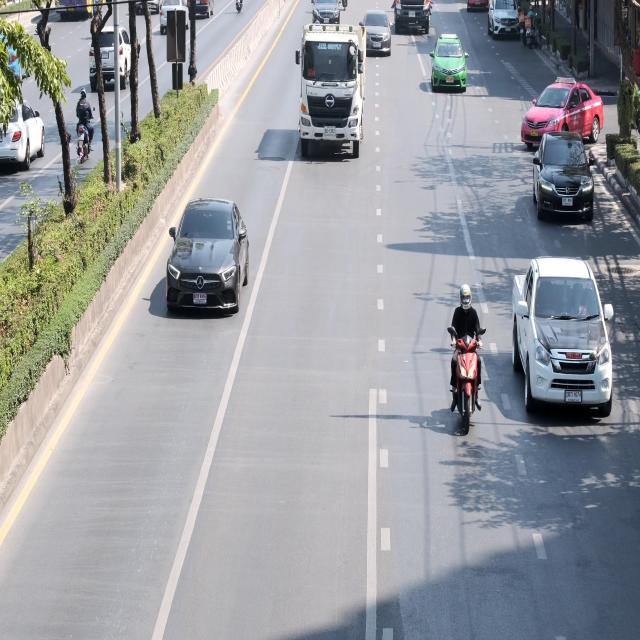cars: (502, 241, 616, 437), (159, 183, 259, 334), (290, 18, 372, 170), (516, 62, 611, 156), (525, 130, 611, 220), (0, 84, 54, 190), (82, 25, 142, 93), (426, 26, 469, 106), (0, 15, 35, 92), (362, 15, 401, 68), (391, 0, 445, 36), (303, 0, 354, 36), (154, 0, 192, 46), (489, 0, 523, 44), (185, 0, 222, 36)
motorcycle: (429, 267, 489, 466), (72, 78, 100, 175)
